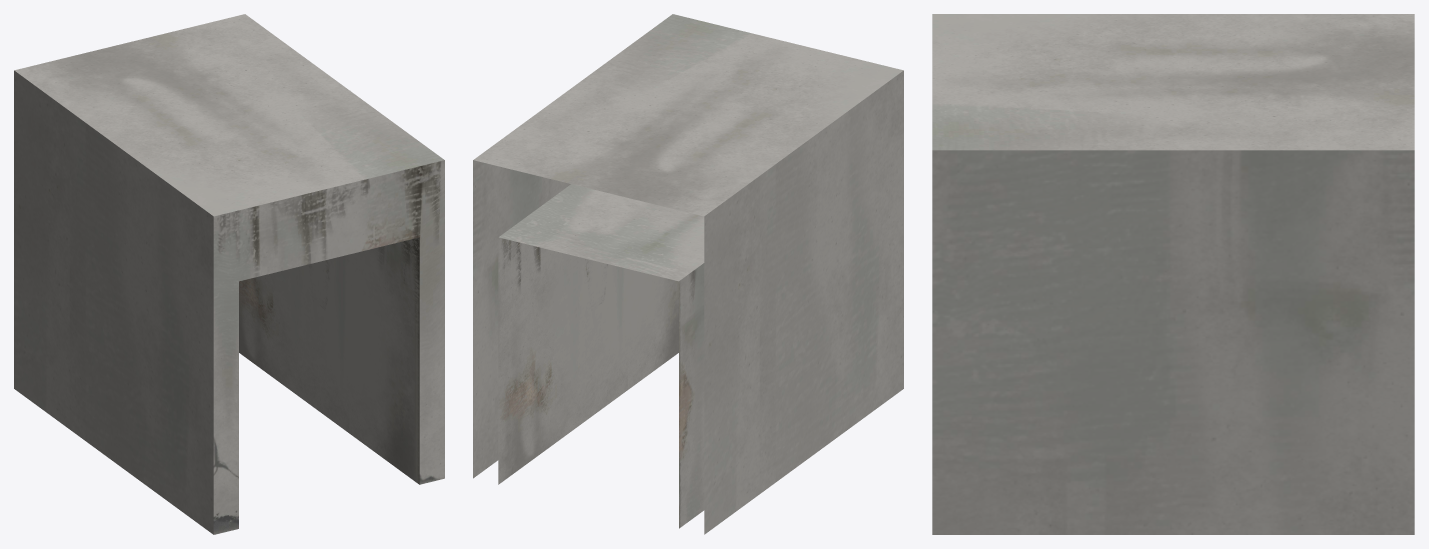
File: exit_01.fbx
3 renders of one model, left to right at view 1: azimuth 30°, elevation 25°; view 2: azimuth 150°, elevation 25°; view 3: azimuth 270°, elevation 25°, orthographic. The views are drawn at different scales.
Parts seen in each view (by area): view 1: Plane014; view 2: Plane014; view 3: Plane014.
Boxes of the visible parts, <box> form: Plane014: <box>14,14,444,534</box>; Plane014: <box>473,14,903,534</box>; Plane014: <box>932,14,1414,534</box>.
Bounding box in the file's own units: 304 × 401 × 455.
